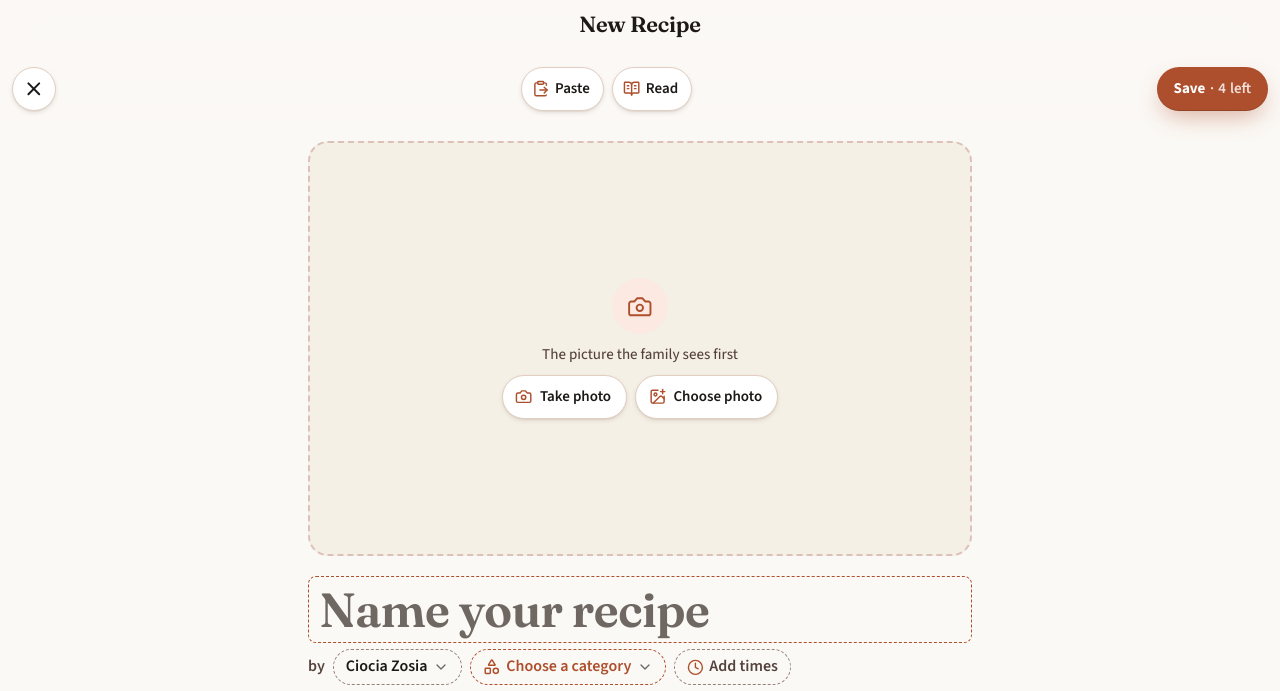
Test: recipe author choice › shows a name from the family list as written, not shortened
Click the button "Ciocia Zosia" at (397, 667), box [333,649,462,685]
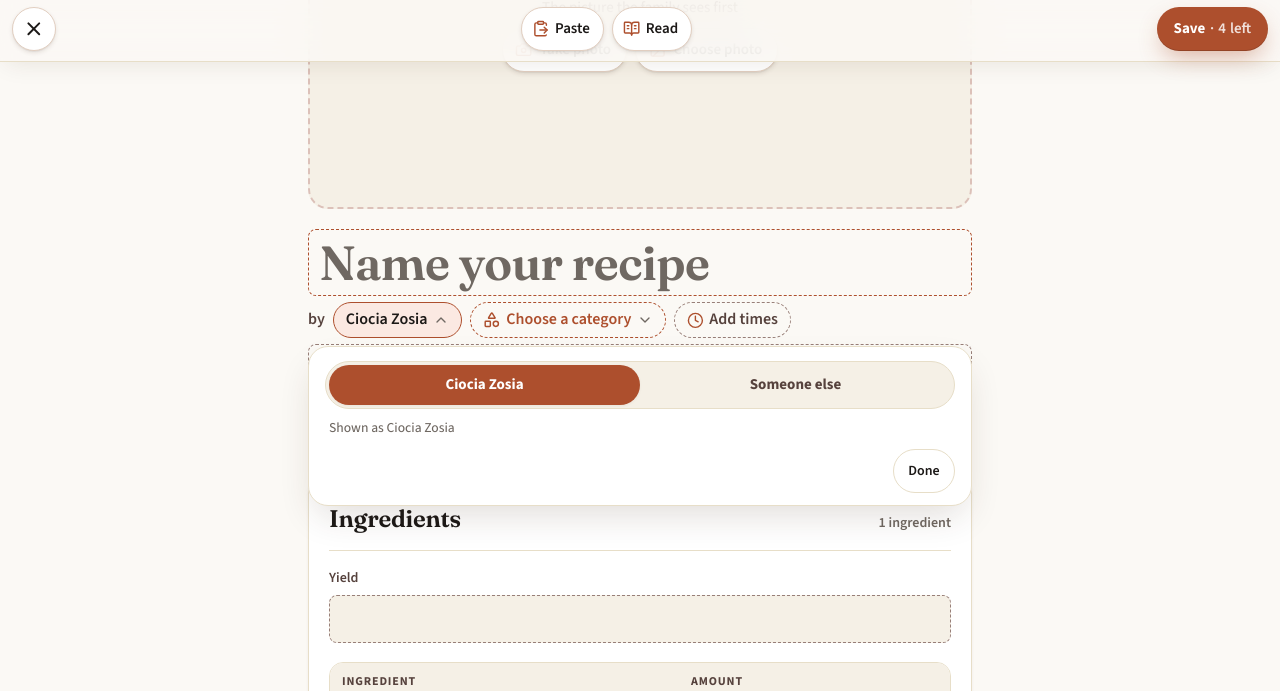
Result: the radio button labelled "Ciocia Zosia" is checked at [445,375,524,396]
